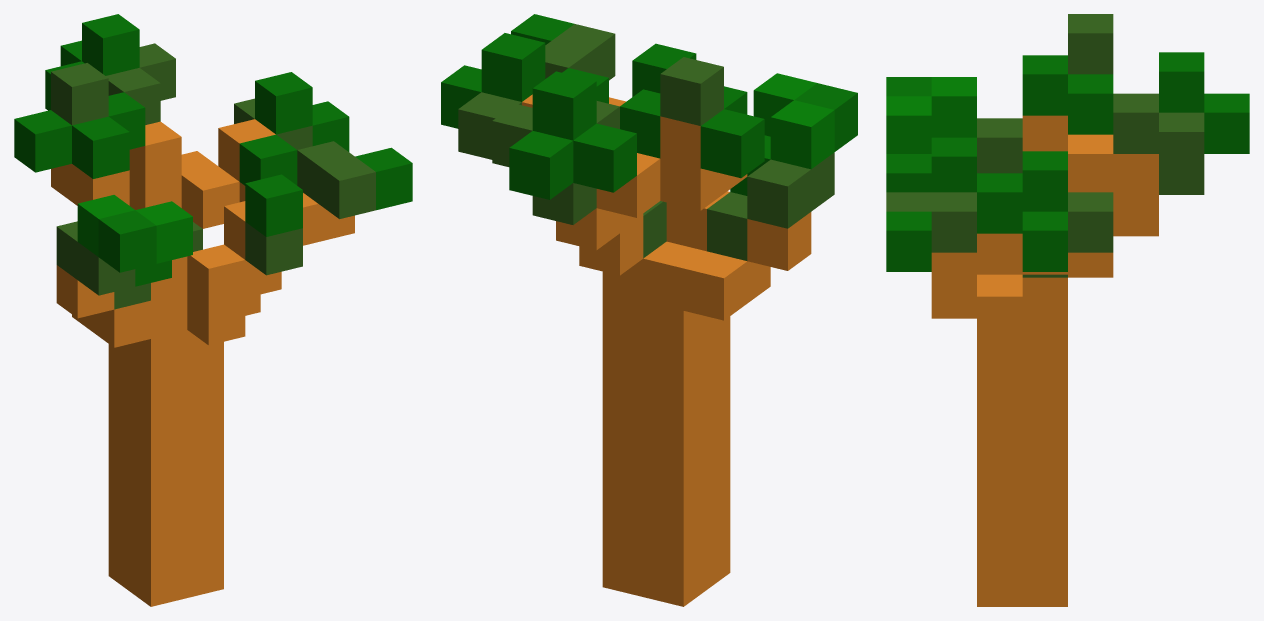
The model's file is Lehm_baum-0.2.obj.
3 renders of one model, left to right at view 1: azimuth 30°, elevation 25°; view 2: azimuth 150°, elevation 25°; view 3: azimuth 270°, elevation 25°, orthographic. The views are drawn at different scales.
Bounding box in the file's own units: 0.8 × 1.3 × 0.8.
1 material, 1 textured.
